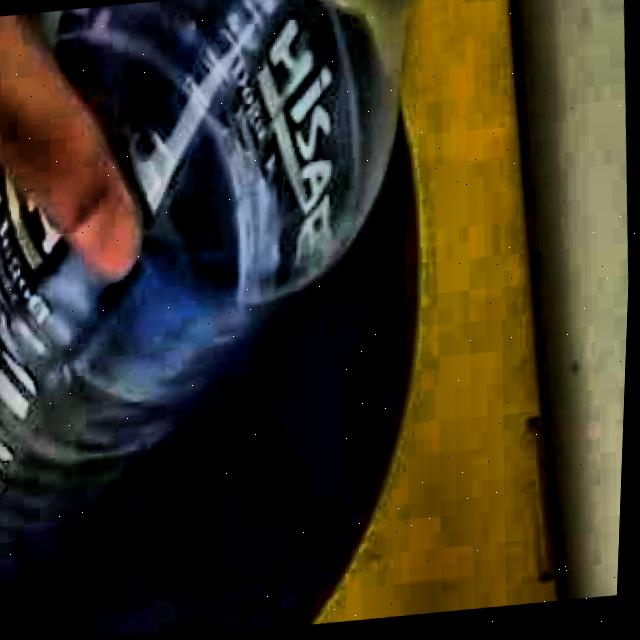plastic: (0, 0, 406, 575)
